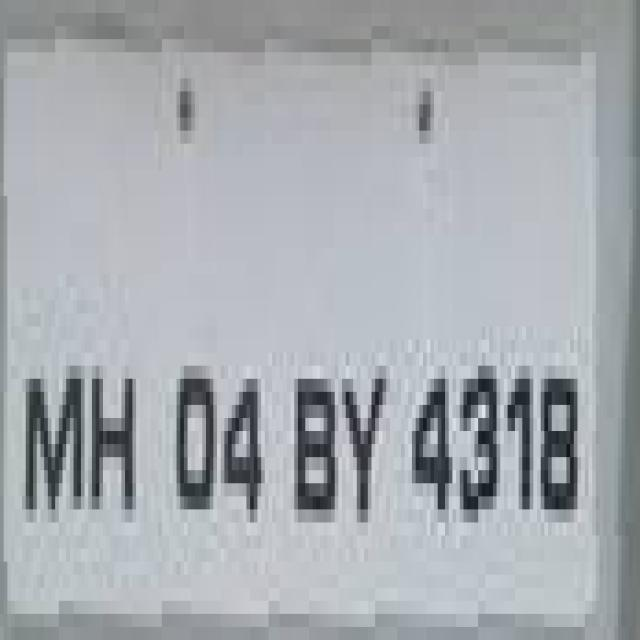plate: (0, 91, 622, 640)
